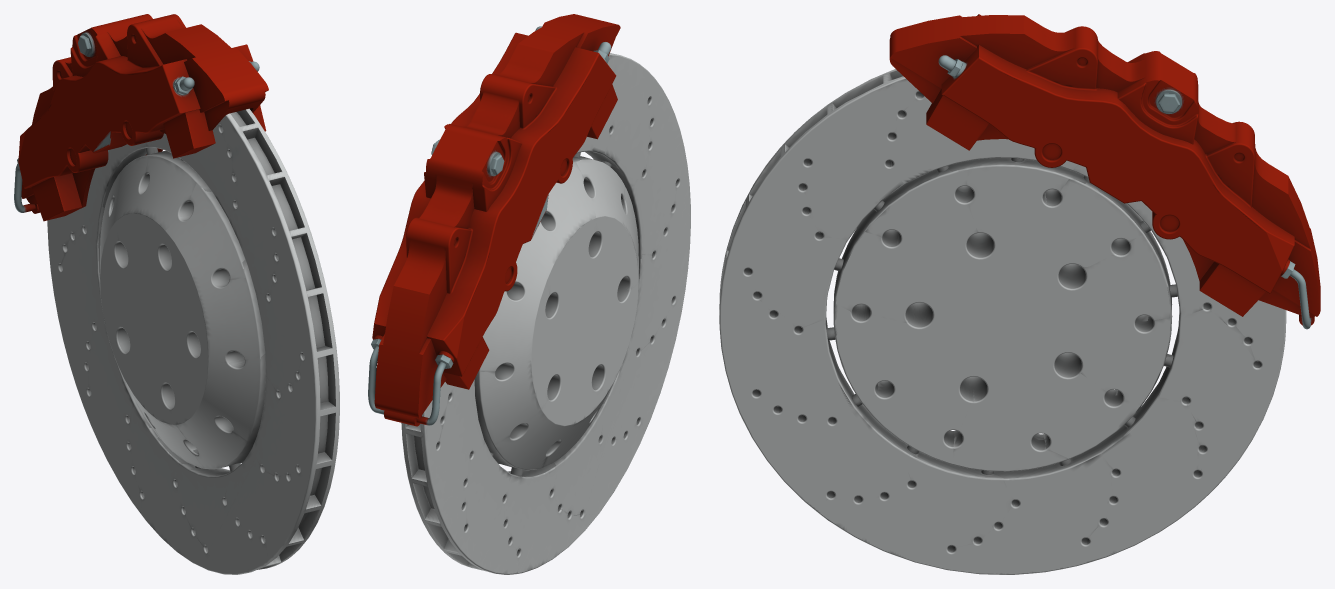
The model's file is Dragonfly_Brake_Right 1.fbx.
3 renders of one model, left to right at view 1: azimuth 30°, elevation 25°; view 2: azimuth 150°, elevation 25°; view 3: azimuth 270°, elevation 25°, orthographic. The views are drawn at different scales.
Visible parts, largest first — view 1: Body1.028, Body1.027; view 2: Body1.028, Body1.027; view 3: Body1.028, Body1.027.
Part boxes in pixels (x1=…): Body1.028: x1=47, y1=108, x2=339, y2=574; Body1.027: x1=14, y1=14, x2=268, y2=221; Body1.028: x1=401, y1=53, x2=690, y2=574; Body1.027: x1=368, y1=14, x2=620, y2=426; Body1.028: x1=719, y1=69, x2=1286, y2=574; Body1.027: x1=889, y1=14, x2=1320, y2=329.
Size of the model in its own units: 3.3 by 19.09 by 19.09.
